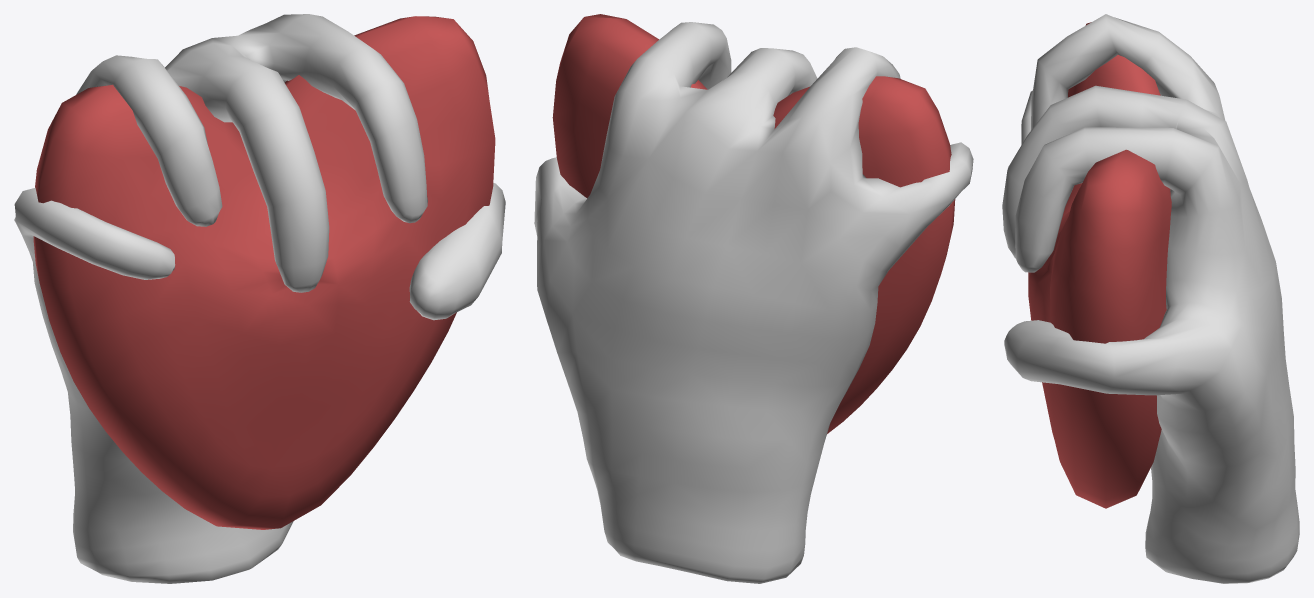
File: lifesteal_LP.fbx
3 views of the same model, side by side, from view 1: azimuth 30°, elevation 25°; view 2: azimuth 150°, elevation 25°; view 3: azimuth 270°, elevation 25° (orthographic). The views are drawn at different scales.
Parts seen in each view (by area): view 1: lifesteal_LP; view 2: lifesteal_LP; view 3: lifesteal_LP.
Boxes of the visible parts, <box> form: lifesteal_LP: <box>14,14,505,583</box>; lifesteal_LP: <box>534,14,973,583</box>; lifesteal_LP: <box>1002,14,1299,583</box>.
Bounding box in the file's own units: 14.62 × 16.22 × 8.94.
